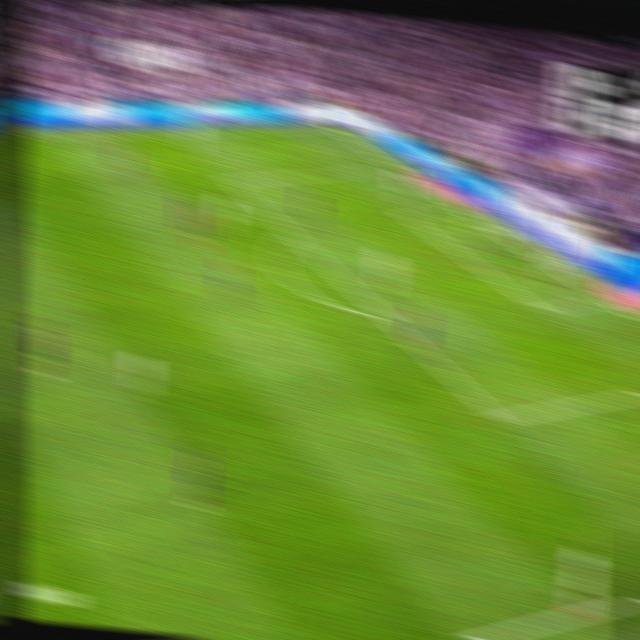bigarea_bottom_inner: (487, 403, 512, 432)
bigarea_top_inner: (222, 171, 243, 189)
bigarea_top_outter: (384, 160, 405, 175)
bottom_arc_area_intersection: (371, 304, 395, 327)
corner: (319, 120, 341, 132)
smallarea_bottom_inner: (531, 298, 553, 320)
smallarea_bottom_outter: (595, 290, 617, 309)
smallarea_top_inner: (398, 209, 417, 222)
top_arc_area_intersection: (281, 224, 304, 244)
